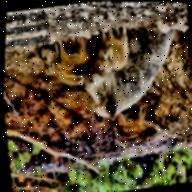boar: (71, 7, 192, 153), (85, 15, 142, 83)
